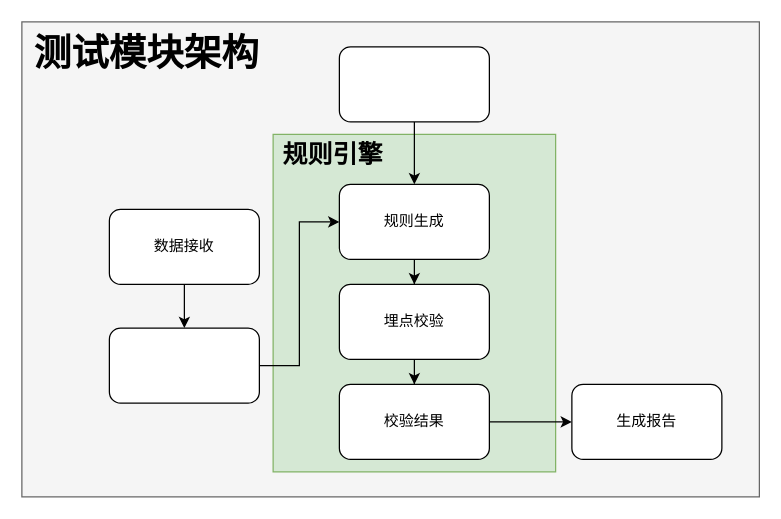
Image size: 781x519. Some labels were removed from this diagram. The shapes that lost their labels are listed below. From the top down, each one's centre as x and y in pixels, then its label:
At pixel 413 84: "埋点协议".
At pixel 183 365: "数据清洗".
